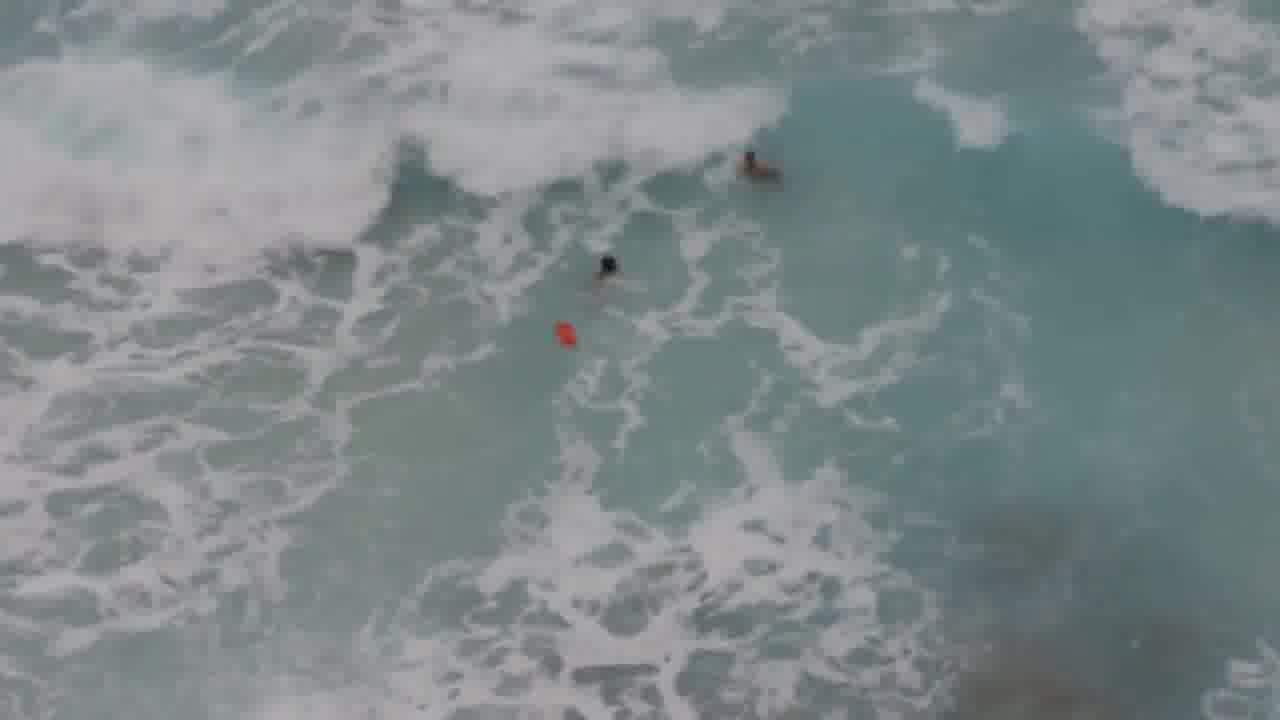swimmer: (722, 135, 780, 182), (581, 244, 638, 284)
